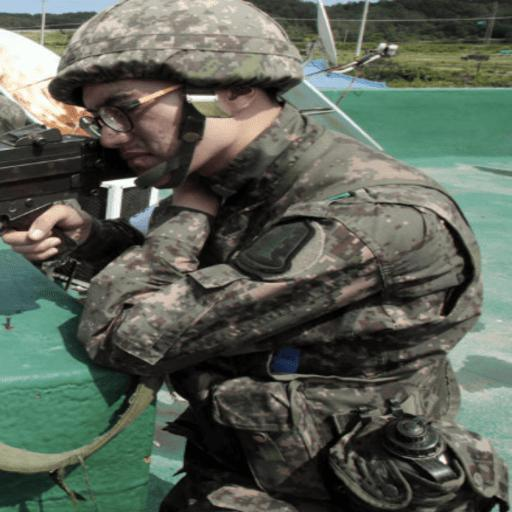korea army: (4, 2, 497, 508)
